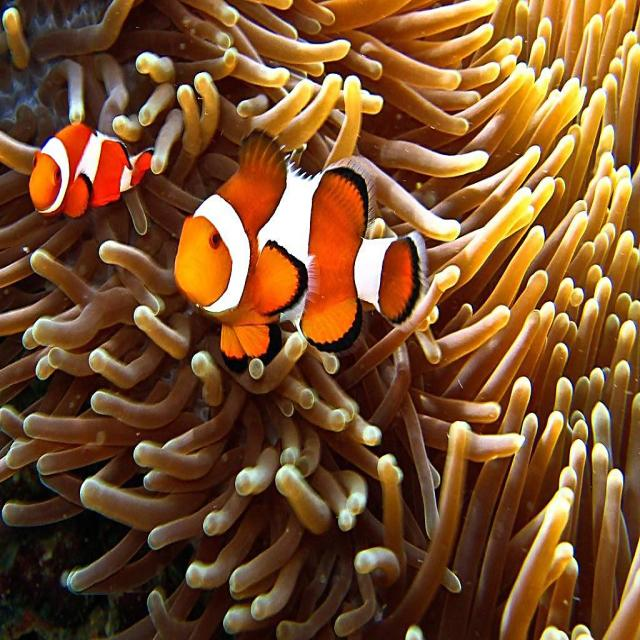ClownFish: (174, 132, 427, 361), (29, 120, 157, 212)
